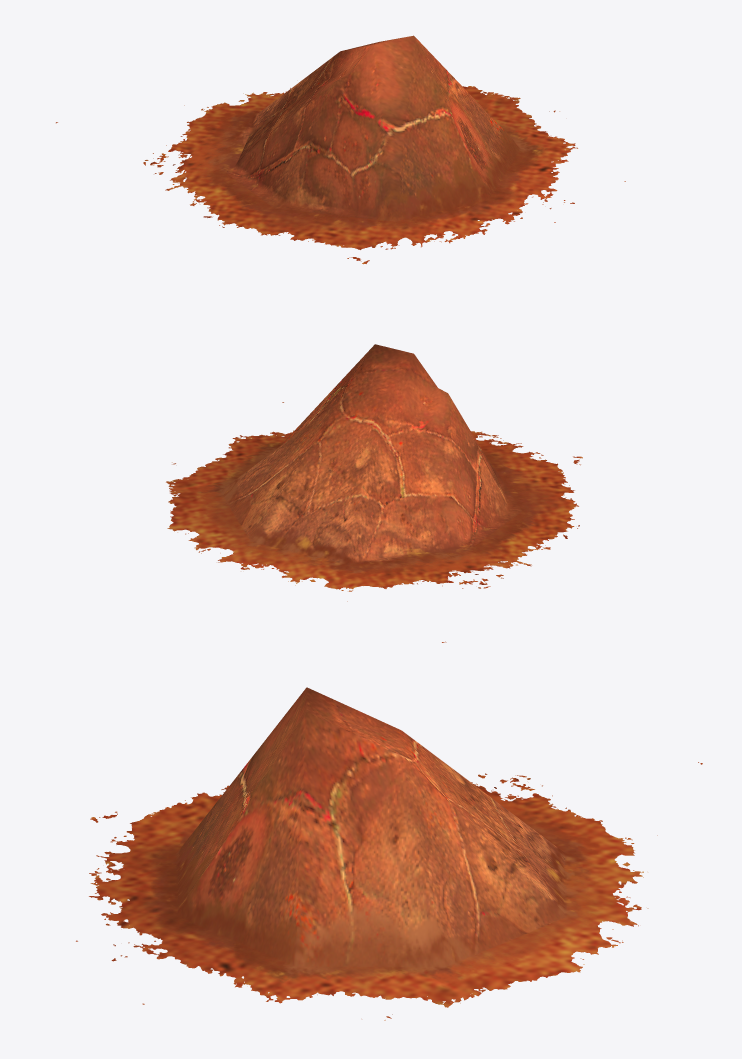
Rendered from Rock_3.fbx.
3 views of the same model, one above another, from view 1: azimuth 30°, elevation 25°; view 2: azimuth 150°, elevation 25°; view 3: azimuth 270°, elevation 25° (orthographic). The views are drawn at different scales.
Visible parts, largest first — view 1: Rock_3; view 2: Rock_3; view 3: Rock_3.
Part boxes in pixels (left/top/right/bottom): Rock_3: left=56, top=35, right=625, bottom=264; Rock_3: left=166, top=344, right=582, bottom=642; Rock_3: left=76, top=687, right=702, bottom=1020.
Bounding box in the file's own units: 1.74 × 0.5221 × 1.74.
1 material, 1 textured.
